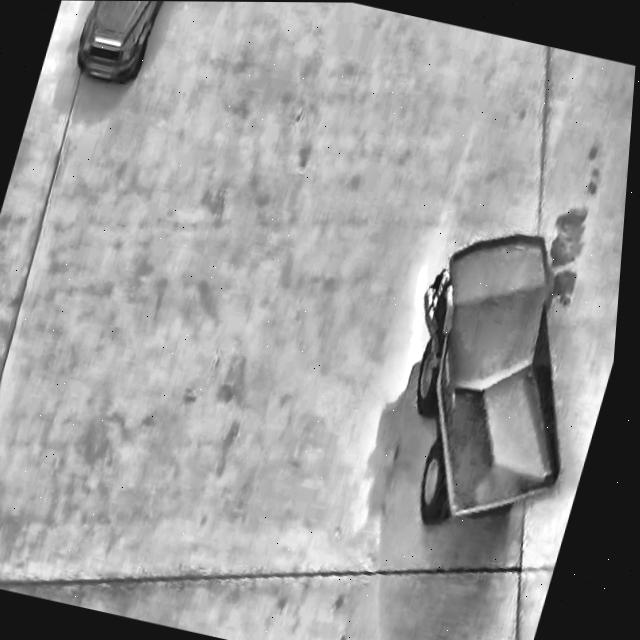dump_truck: (369, 208, 628, 547)
light_vehicle: (62, 0, 179, 99)
